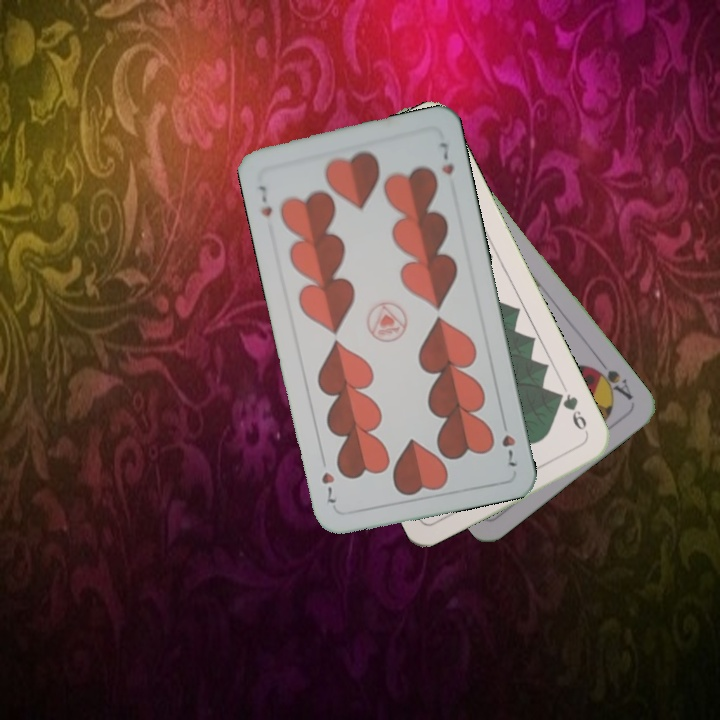G9: (552, 388, 592, 440)
H7: (497, 413, 520, 469), (254, 181, 275, 219)
SA: (587, 354, 636, 403)
